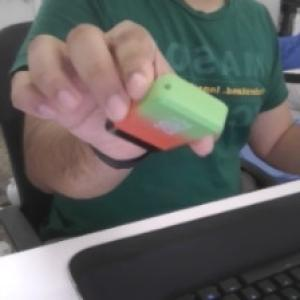Swift-E-Ciggirate: (104, 71, 232, 147)
